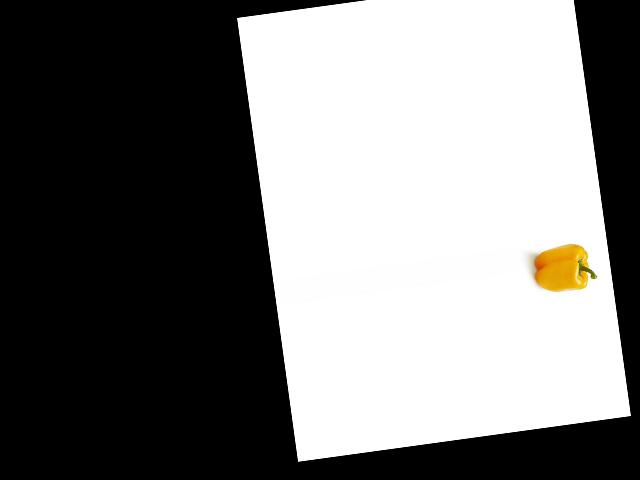bell_pepper: (530, 240, 601, 301)
